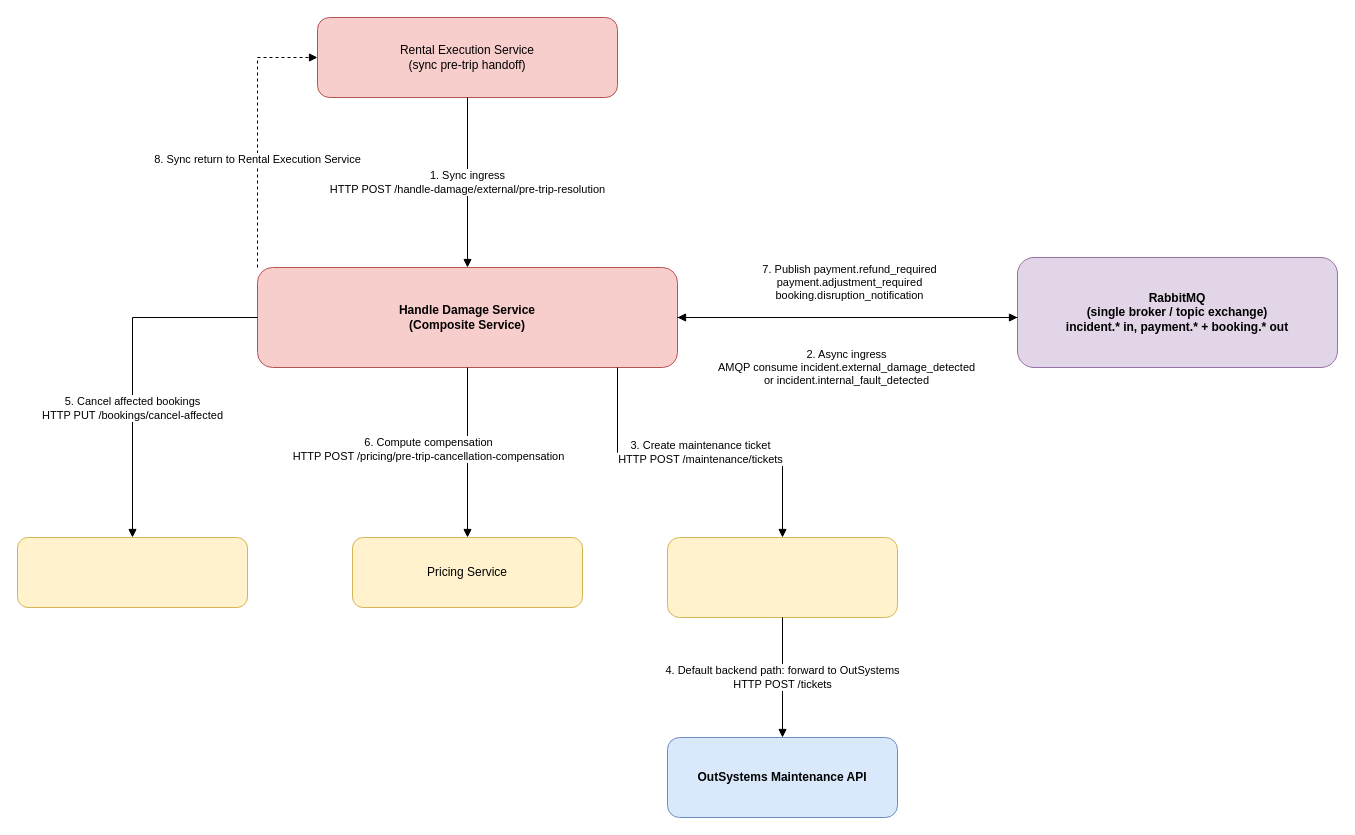
This 1355x835 diagram has some shape labels left out. Each missing label, with the box of its shape:
Booking Service: (16, 536, 248, 608)
Maintenance Service: (666, 536, 898, 618)
